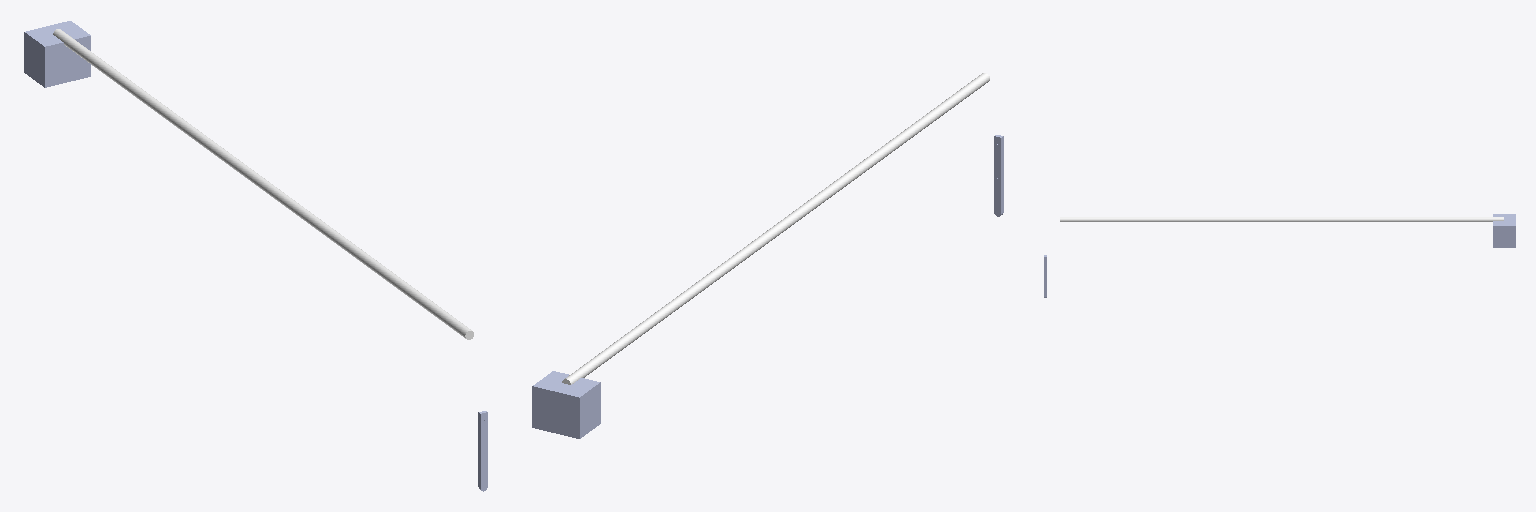
URDF robot description (monopod-fixed_hip):
<?xml version="1.0" encoding="utf-8"?>
<!-- This URDF was automatically created by SolidWorks to URDF Exporter! Originally created by Stephen Brawner ([email redacted])
     Commit Version: 1.6.0-1-g15f4949  Build Version: 1.6.7594.29634
     For more information, please see http://wiki.ros.org/sw_urdf_exporter -->
<robot name="monopod-fixed_hip">
  <link name="world" />

<!-- Central pivot link -->

  <link name="central_pivot_link">
    <inertial>
      <origin
        xyz="0 0 80E-3"
        rpy="0 0 0" />
      <mass
        value="2.424" />
      <inertia
        ixx="20310.796E-6"
        ixy="-2.157E-6"
        ixz="-67.637E-6"
        iyy="21642.88E-6"
        iyz="-19.042E-6"
        izz="8571.224E-6" />
    </inertial>
    <visual>
      <origin
        xyz="0 0 0"
        rpy="0 0 0" />
      <geometry>
        <mesh
          filename="package://monopod-fixed_hip/meshes/central_pivot.STL" />
      </geometry>
      <material
        name="">
        <color
          rgba="0.792156862745098 0.819607843137255 0.933333333333333 1" />
      </material>
    </visual>
    <collision>
      <origin xyz="0 0 0" rpy="0 0 0" />
      <geometry>
        <mesh
          filename="package://monopod-fixed_hip/meshes/central_pivot.STL" />
      </geometry>
    </collision>
  </link>

<!-- Connect link to world. rotates in yaw -->

  <joint name="planarizer_yaw_joint" type="continuous">
      <origin
        xyz="0 0 0.11"
        rpy="0 3.14159265359 0" />
     <parent link="world"/>
     <child link="central_pivot_link"/>
     <axis xyz="0 0 1" />
     <dynamics
       damping="0"
       friction="0.01" />
  </joint>

  <!-- Boom link -->

  <link name="boom_link">
    <inertial>
      <origin xyz="0 -1.0 0" rpy="0 0 0" />
    <mass value="0.12458" />
    <inertia
      ixx="138009.606E-6"
      ixy="0"
      ixz="0"
      iyy="61.714E-06"
      iyz="0"
      izz="138009.606E-6" />
    </inertial>
    <visual>
      <origin xyz="0 0 0" rpy="0 0 0" />
      <geometry>
        <mesh filename="package://monopod-fixed_hip/meshes/boom.STL" />
      </geometry>
      <material name="">
        <color rgba="1 1 1 1" />
      </material>
    </visual>
    <collision>
      <origin xyz="0 0 0" rpy="0 0 0" />
      <geometry>
        <mesh filename="package://monopod-fixed_hip/meshes/boom.STL" />
      </geometry>
    </collision>
  </link>

<!-- Boom pitch joint -->

  <joint name="planarizer_pitch_joint" type="continuous">
    <origin xyz="0 0 0" rpy="0 0 0"/>
    <parent link="central_pivot_link" />
    <child link="boom_link" />
    <axis xyz="1 0 0" />
    <dynamics damping="0" friction="0.01" />
  </joint>


  <link name="hip_link">
    <inertial>
      <origin
        xyz="-2.016E-3 26.789E-3 18.092E-3"
        rpy="0 0 0" />
      <mass value="0.151" />
      <inertia
        ixx="308.333E-6"
        ixy="4.166E-6"
        ixz="-0.452E-6"
        iyy="222.631E-6"
        iyz="-35.508E-6"
        izz="110.366E-6" />
    </inertial>
    <visual>
      <origin xyz="0 0 0" rpy="0 0 0" />
      <geometry>
        <mesh
          filename="package://monopod-fixed_hip/meshes/hip.STL" />
      </geometry>
      <material name="">
        <color rgba="0.792156862745098 0.819607843137255 0.933333333333333 1" />
      </material>
    </visual>
    <collision>
      <origin xyz="0 0 0" rpy="0 0 0" />
      <geometry>
        <mesh filename="package://monopod-fixed_hip/meshes/hip.STL" />
      </geometry>
    </collision>
  </link>

<!-- Hip free joint -->

  <joint name="boom_connector_joint" type="fixed">
    <origin xyz="0 -2.01 0" rpy="-1.57 0 -1.57" />
    <parent
      link="boom_link" />
    <child
      link="hip_link" />
    <axis
      xyz="1 0 0" />
    <dynamics
      damping="0"
      friction="0.01" />
  </joint>

<!-- Upper leg link -->

  <link name="upper_leg_link">
    <inertial>
      <origin
        xyz="-7.414E-3 -0.013E-3 112.131E-3"
        rpy="3.14159265359 0 0" />
      <!-- <origin
        xyz="-7.414E-3 -0.013E-3 87.869E-3"
        rpy="0 0 0" /> -->
      <mass
        value="0.176" />
      <inertia
        ixx="629.368E-6"
        ixy="-0.003E-6"
        ixz="56.169E-6"
        iyy="627.685E-6"
        iyz="0.082E-6"
        izz="38.329E-6" />
    </inertial>
    <visual>
      <origin
        xyz="0 0 0.2"
        rpy="3.14159265359 0 0" />
      <!-- <origin
        xyz="0 0 0"
        rpy="0 0 0" /> -->
      <geometry>
        <mesh filename="package://monopod-fixed_hip/meshes/upper_leg.STL" />
      </geometry>
      <material name="">
        <color rgba="0.79216 0.81961 0.93333 1" />
      </material>
    </visual>
    <collision>
      <origin
        xyz="0 0 0.2"
        rpy="3.14159265359 0 0" />
      <!-- <origin
        xyz="0 0 0"
        rpy="0 0 0" /> -->
      <geometry>
        <mesh filename="package://monopod-fixed_hip/meshes/upper_leg.STL" />
      </geometry>
    </collision>
  </link>

<!-- Actuated hip joint -->

  <joint
    name="hip_joint"
    type="continuous">
    <origin
      xyz="0.035 0 0"
      rpy="1.57 0 0" />
    <parent link="hip_link" />
    <child link="upper_leg_link" />
    <axis xyz="1 0 0" />
    <!-- <limit
      lower="-6.28"
      upper="6.28"
      effort="50"
      velocity="3.1415926535916" /> -->
    <dynamics
      damping="0"
      friction="0.01" />
  </joint>

<!-- Lower leg link -->

  <link name="lower_leg_link">
    <inertial>
      <origin
        xyz="0.832E-3 0.048E-3 -94.965E-3"
        rpy="0 0 0" />
      <mass value="0.067" />
      <inertia
        ixx="324.934E-6"
        ixy="0.003E-6"
        ixz="-5.262E-6"
        iyy="324.437E-6"
        iyz="0.254E-6"
        izz="4.053E-6" />
    </inertial>
    <visual>
      <origin
        xyz="0 0 0"
        rpy="0 0 0" />
      <geometry>
        <mesh
          filename="package://monopod-fixed_hip/meshes/lower_leg.STL" />
      </geometry>
      <material
        name="">
        <color rgba="0.79216 0.81961 0.93333 1" />
      </material>
    </visual>
    <collision>
      <origin
        xyz="0 0 0"
        rpy="0 0 0" />
      <geometry>
        <mesh
          filename="package://monopod-fixed_hip/meshes/lower_leg.STL" />
      </geometry>
    </collision>
  </link>

<!-- Lower leg actuated joint -->

  <joint
    name="knee_joint"
    type="continuous">
    <!-- type="revolute"> -->
    <origin
      xyz="0.019 0 0.2"
      rpy="3.14159265359 0 0" />
    <parent link="upper_leg_link" />
    <child link="lower_leg_link" />
    <axis xyz="1 0 0" />
    <!-- <limit
      lower="-6.28"
      upper="6.28"
      effort="50"
      velocity="3.1415926535916" /> -->
    <dynamics
      damping="0"
      friction="0.01" />
  </joint>
</robot>

--- Facts derived from the render (not from the file) ---
Views: 3 orthographic renders of the robot side by side, from view 1: azimuth 30°, elevation 25°; view 2: azimuth 150°, elevation 25°; view 3: azimuth 270°, elevation 25°.
Model monopod-fixed_hip with 6 links and 5 joints (4 continuous, 1 fixed), rooted at world, posed every joint at zero.
Links seen in each view (by area): view 1: boom_link, central_pivot_link, lower_leg_link; view 2: boom_link, central_pivot_link, lower_leg_link; view 3: boom_link, central_pivot_link.
Link boxes in pixels (x1,y1,x2,y2): boom_link: (53,29,473,339); central_pivot_link: (24,21,90,87); lower_leg_link: (478,411,487,491); boom_link: (562,73,989,384); central_pivot_link: (532,371,600,438); lower_leg_link: (994,135,1003,216); boom_link: (1060,217,1503,221); central_pivot_link: (1493,214,1515,247).
Bounding box of the posed robot: 0.13 × 2.12 × 0.4027 m (x, y, z).
Meshes: 5 distinct files referenced, 3 mesh visuals loaded (3 binary STL); not drawn: 2 (reference not matched to a file when rendering).
